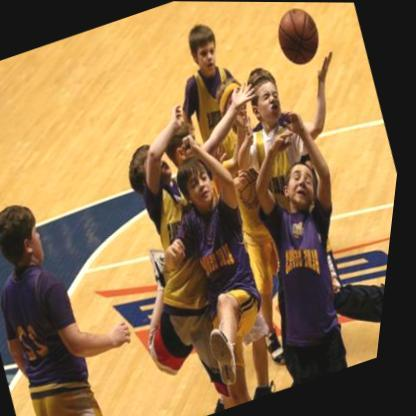basketball: (267, 2, 331, 69)
